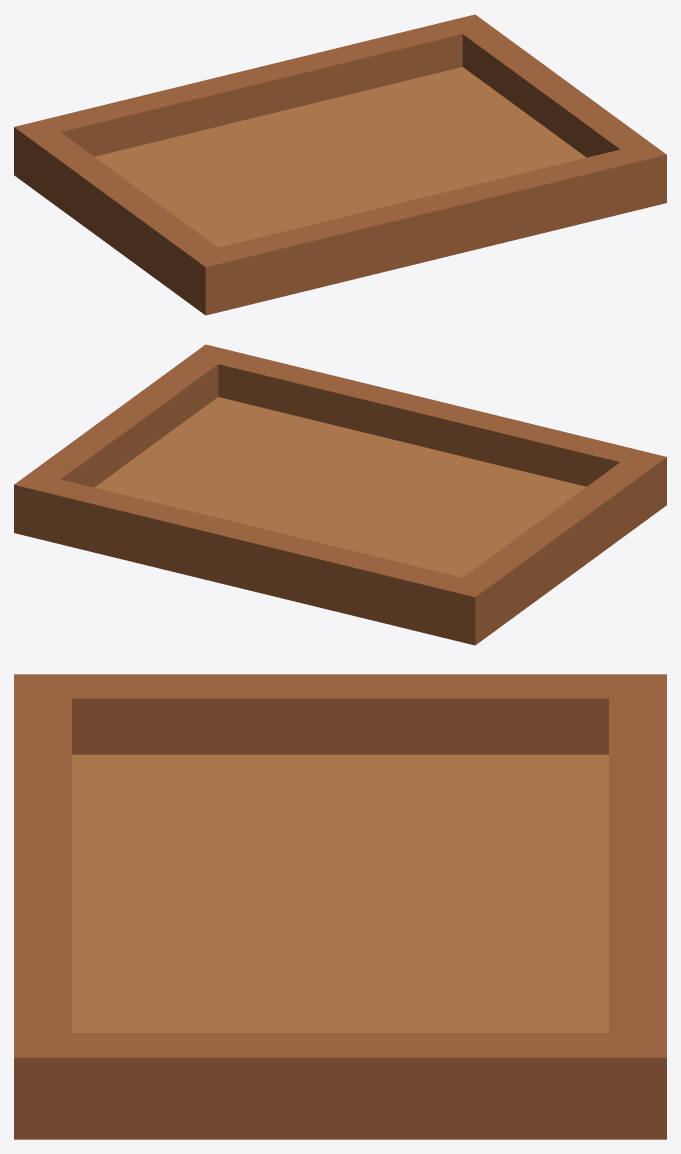
File: Lodge_SpecimenTray.fbx
The picture shows the model from 3 angles, top to bottom: view 1: azimuth 30°, elevation 25°; view 2: azimuth 150°, elevation 25°; view 3: azimuth 270°, elevation 25°; orthographic projection. The views are drawn at different scales.
Parts seen in each view (by area): view 1: FnWood, Floor; view 2: FnWood, Floor; view 3: FnWood, Floor.
Boxes of the visible parts, x1,y1,x2,y2 form: FnWood: [14, 14, 666, 315]; Floor: [94, 67, 586, 247]; FnWood: [14, 344, 666, 645]; Floor: [94, 397, 586, 577]; FnWood: [14, 674, 666, 1139]; Floor: [72, 754, 608, 1032].
Bounding box in the file's own units: 2.5 × 0.25 × 1.8.
